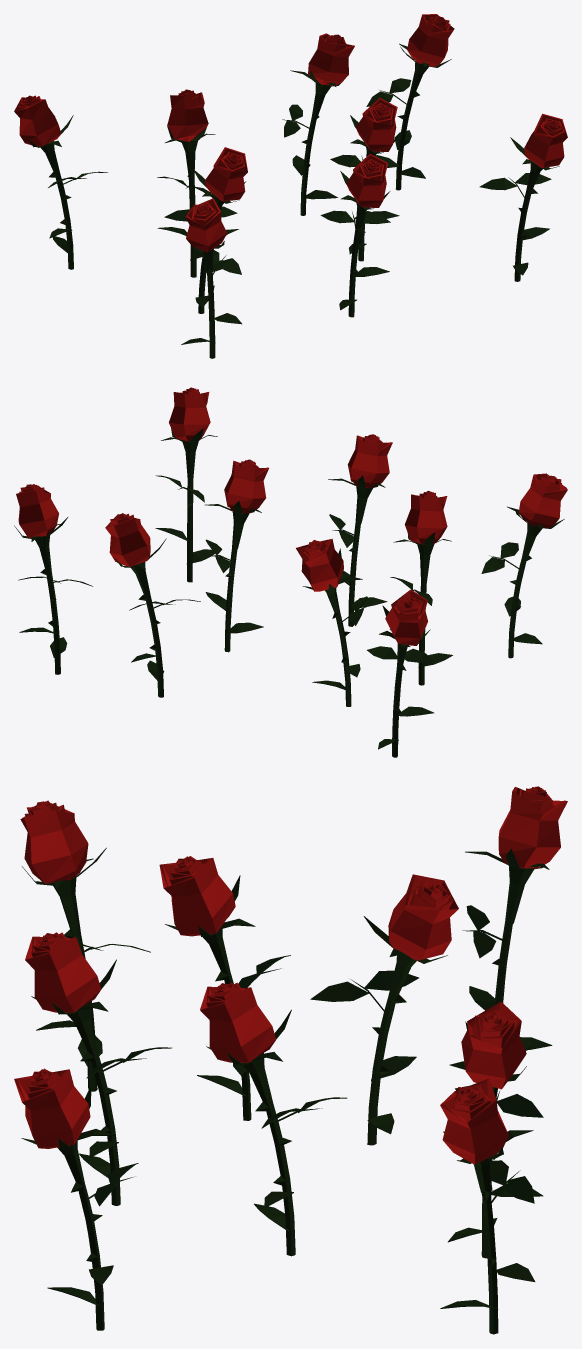
The picture shows the model from 3 angles, top to bottom: view 1: azimuth 30°, elevation 25°; view 2: azimuth 150°, elevation 25°; view 3: azimuth 270°, elevation 25°; orthographic projection. The views are drawn at different scales.
Parts seen in each view (by area): view 1: Cylinder003; view 2: Cylinder003; view 3: Cylinder003.
Part boxes in pixels (<box>): Cylinder003: <box>14,14,567,358</box>; Cylinder003: <box>14,387,567,757</box>; Cylinder003: <box>14,786,567,1334</box>.
Bounding box in the file's own units: 281 × 110 × 204.
